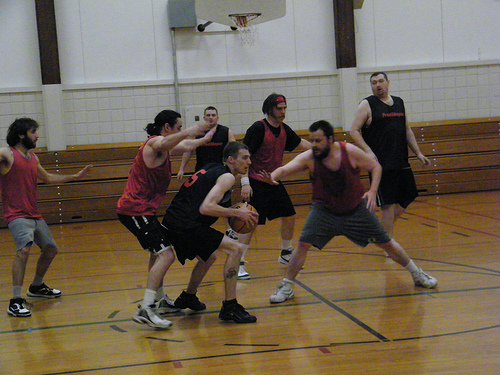basketball: (229, 203, 258, 235)
